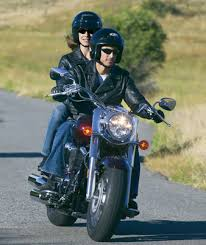helmet: (91, 30, 125, 66), (70, 10, 103, 46)
